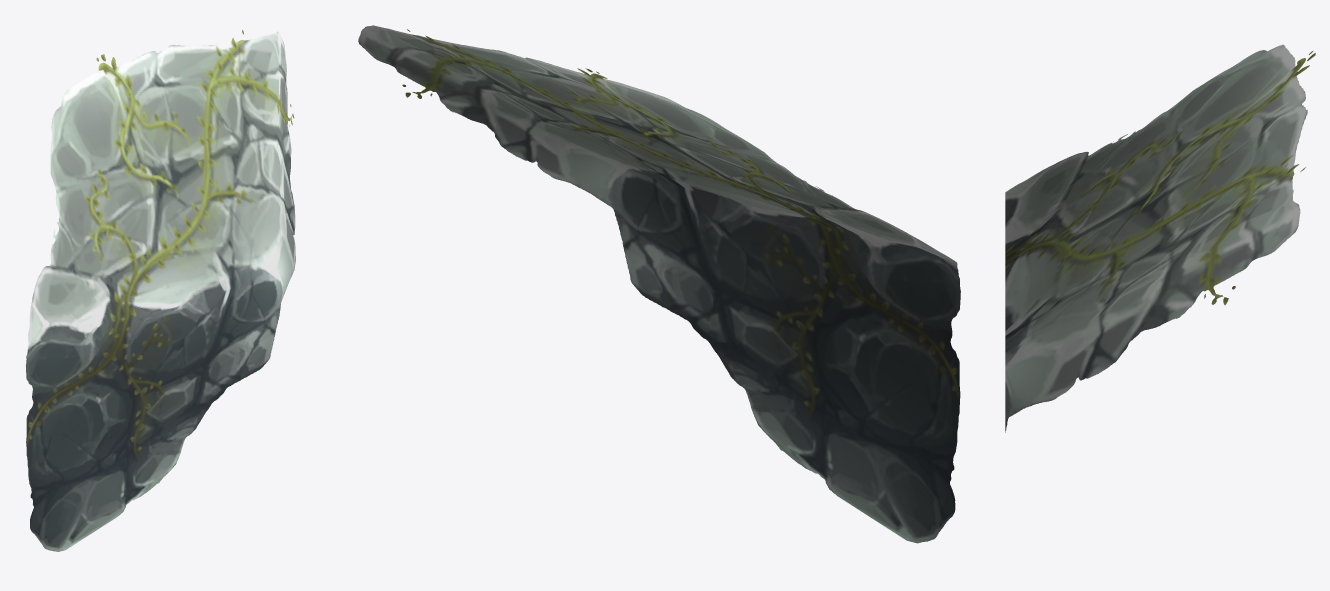
File: Falling Edge Ruins.FBX
The picture shows the model from 3 angles, left to right: view 1: azimuth 30°, elevation 25°; view 2: azimuth 150°, elevation 25°; view 3: azimuth 270°, elevation 25°; orthographic projection. The views are drawn at different scales.
Visible parts, largest first — view 1: Falling Edge Ruins; view 2: Falling Edge Ruins; view 3: Falling Edge Ruins.
Boxes of the visible parts, x1=… form: Falling Edge Ruins: x1=26, y1=30, x2=295, y2=551; Falling Edge Ruins: x1=358, y1=25, x2=960, y2=543; Falling Edge Ruins: x1=1005, y1=44, x2=1315, y2=432.
Bounding box in the file's own units: 465 × 212 × 475.
